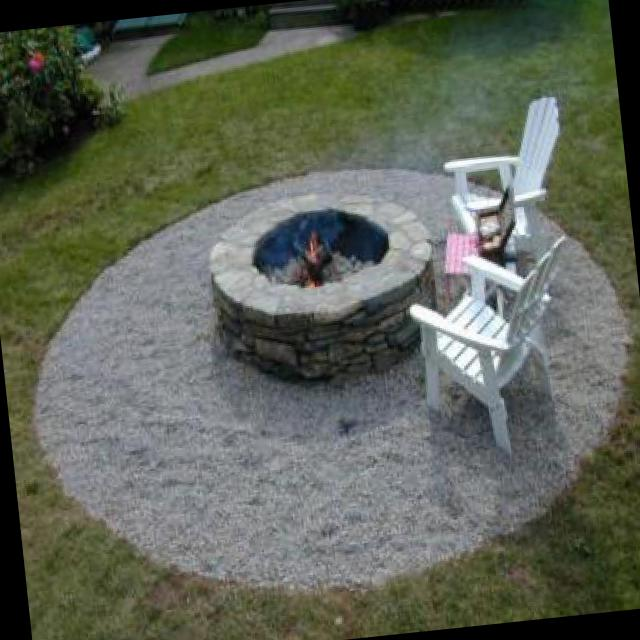Fire: (294, 222, 333, 284)
